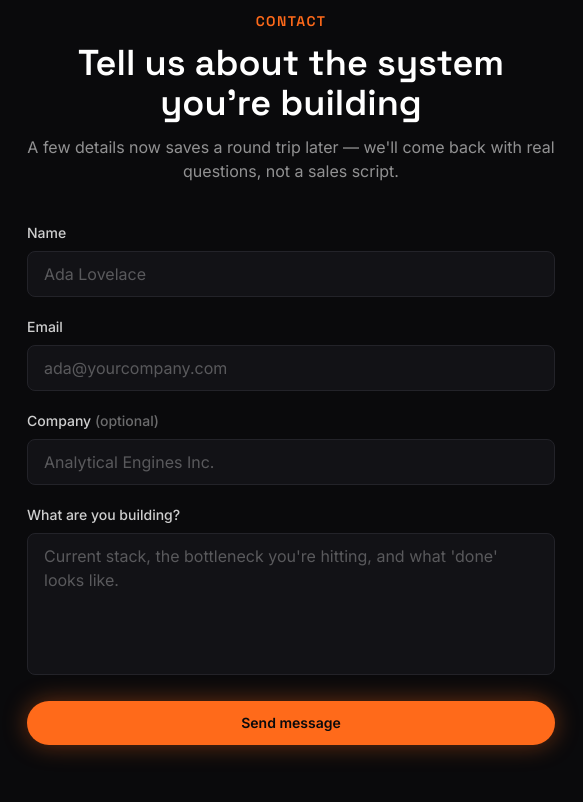
Test: Contact › rejects an invalid email before submitting
Type "Ada" into the field labelled "Name". click: (291, 274)
box: [27, 251, 555, 297]
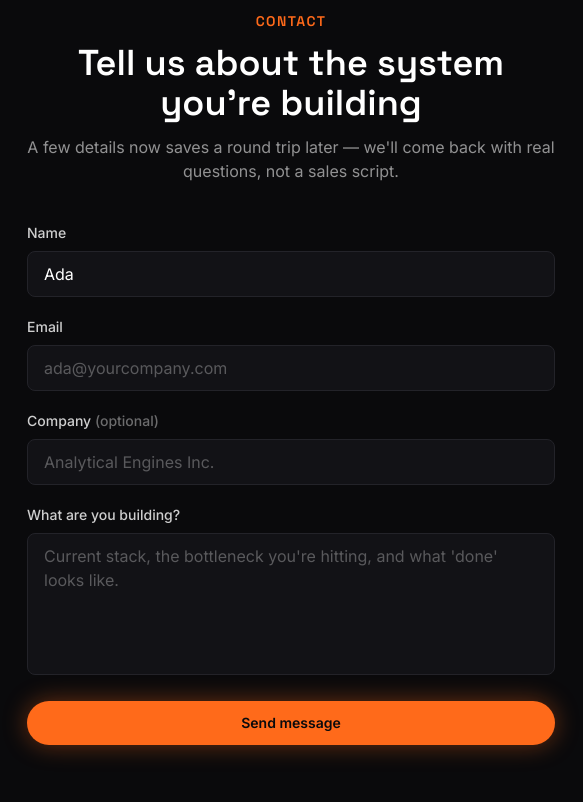
Type "not-an-email" into the field labelled "Email". click: (291, 368)
box: [27, 345, 555, 391]
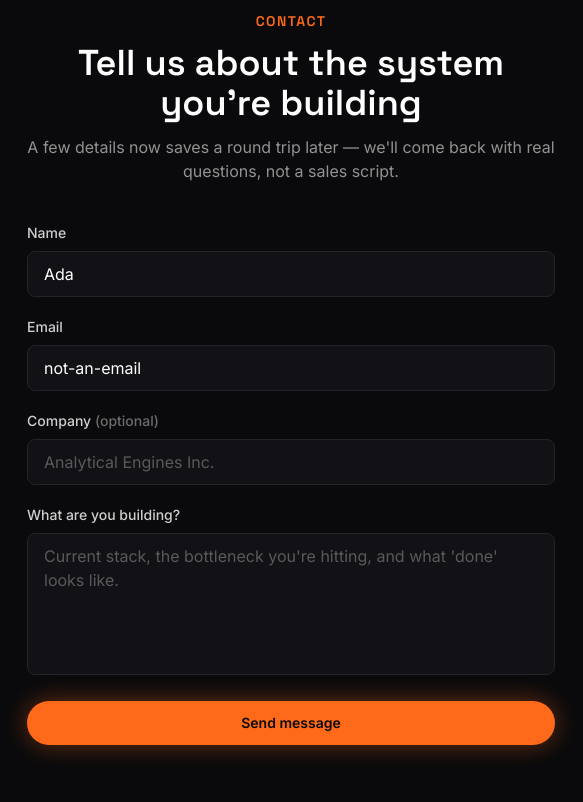
Replace the text in the text box labelled "What are you building?" with "A compiler". click: (291, 604)
box: [27, 533, 555, 675]
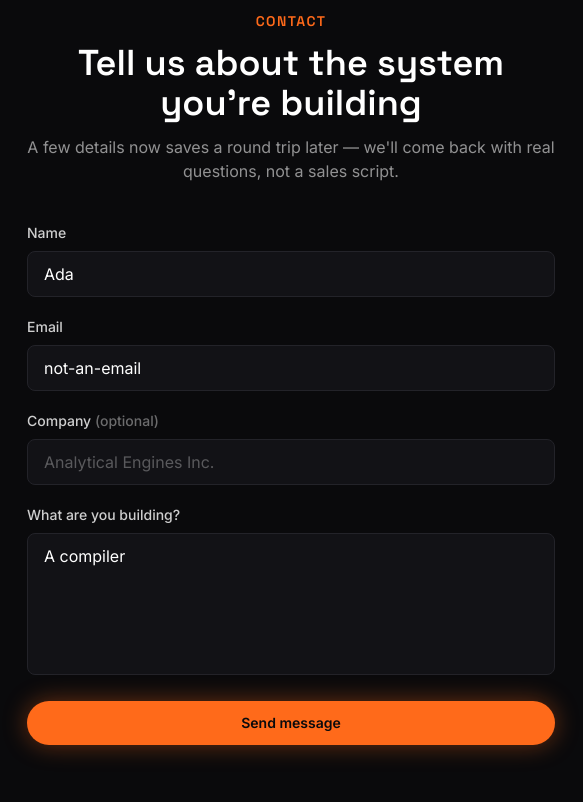
Click the button "Send message". click: (291, 723)
box: [27, 701, 555, 745]
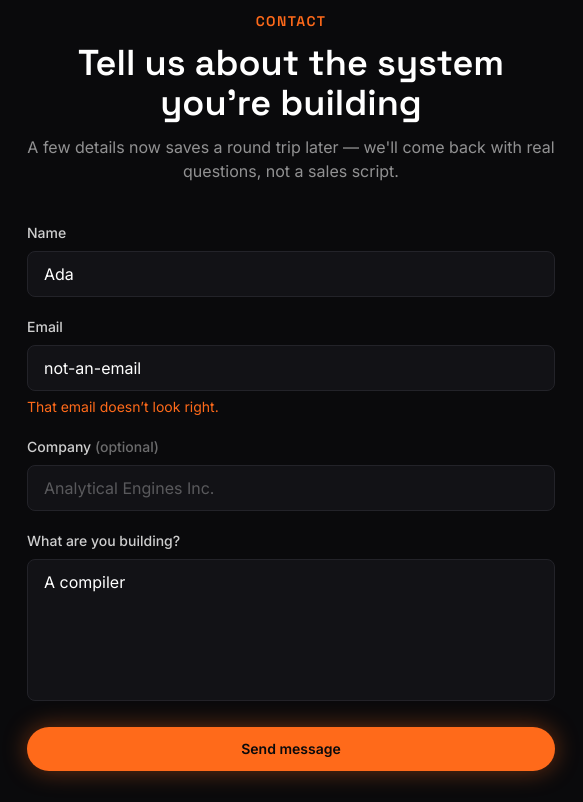
Expected: the text "That email doesn’t look right." is shown, [27, 398, 219, 415]
